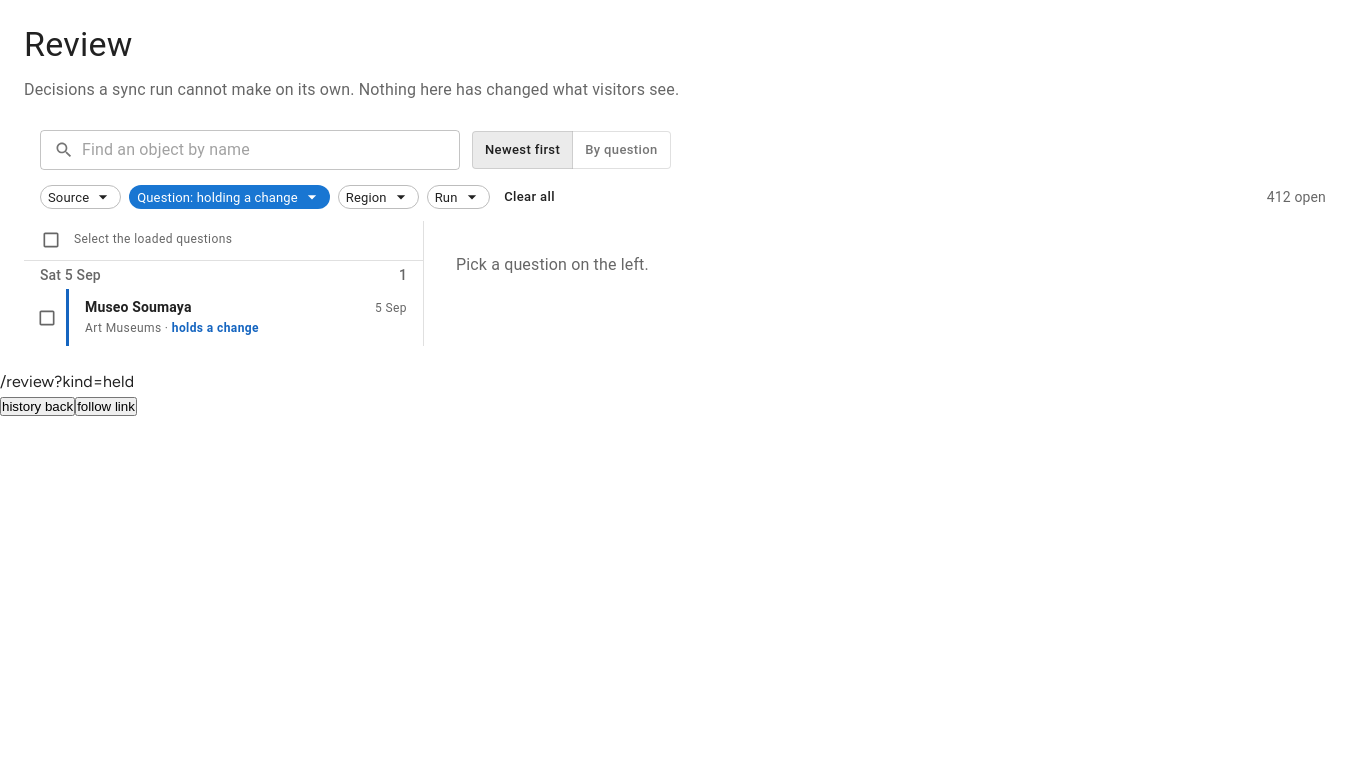
Scenario: answering a selection › says an all-matching answer under a held filter reaches the unread contents those rows hold
Check: the checkbox named "Select Museo Soumaya" is shown, box x1=37 y1=308 x2=57 y2=328
Click the checkbox named "Select the 1 questions loaded".
click(51, 240)  # box x1=41 y1=230 x2=61 y2=250
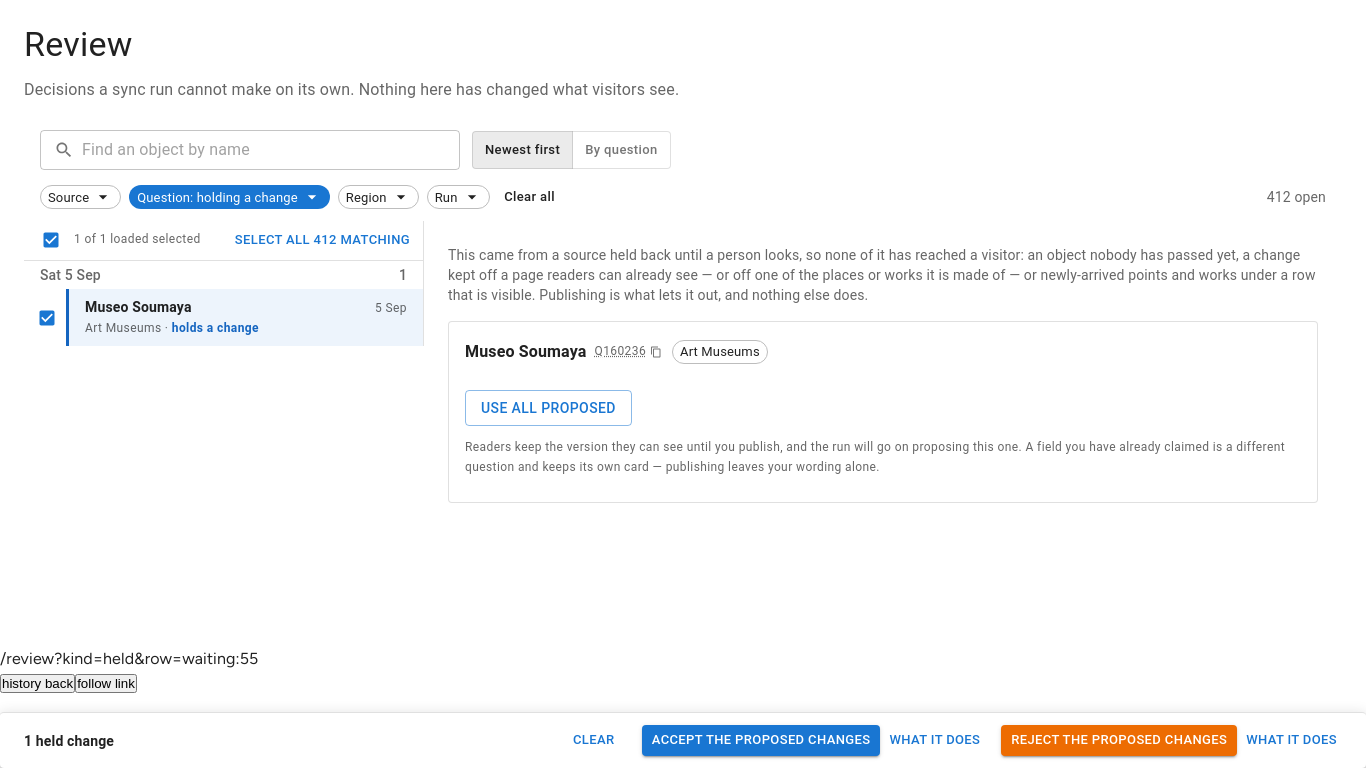
Click the button "Select all 412 matching".
click(322, 240)  # box x1=230 y1=225 x2=415 y2=256
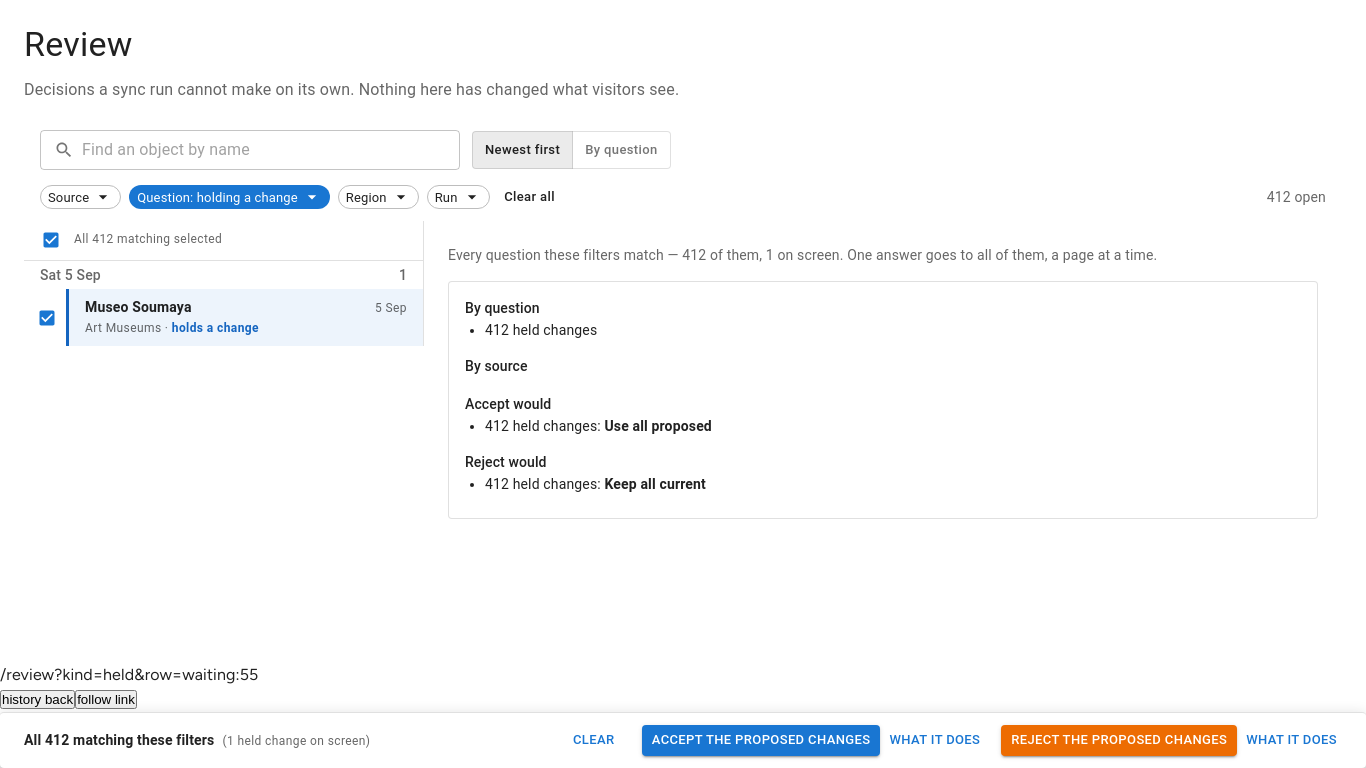
Click the button "Reject the proposed changes".
click(1119, 741)  # box x1=1001 y1=725 x2=1237 y2=756
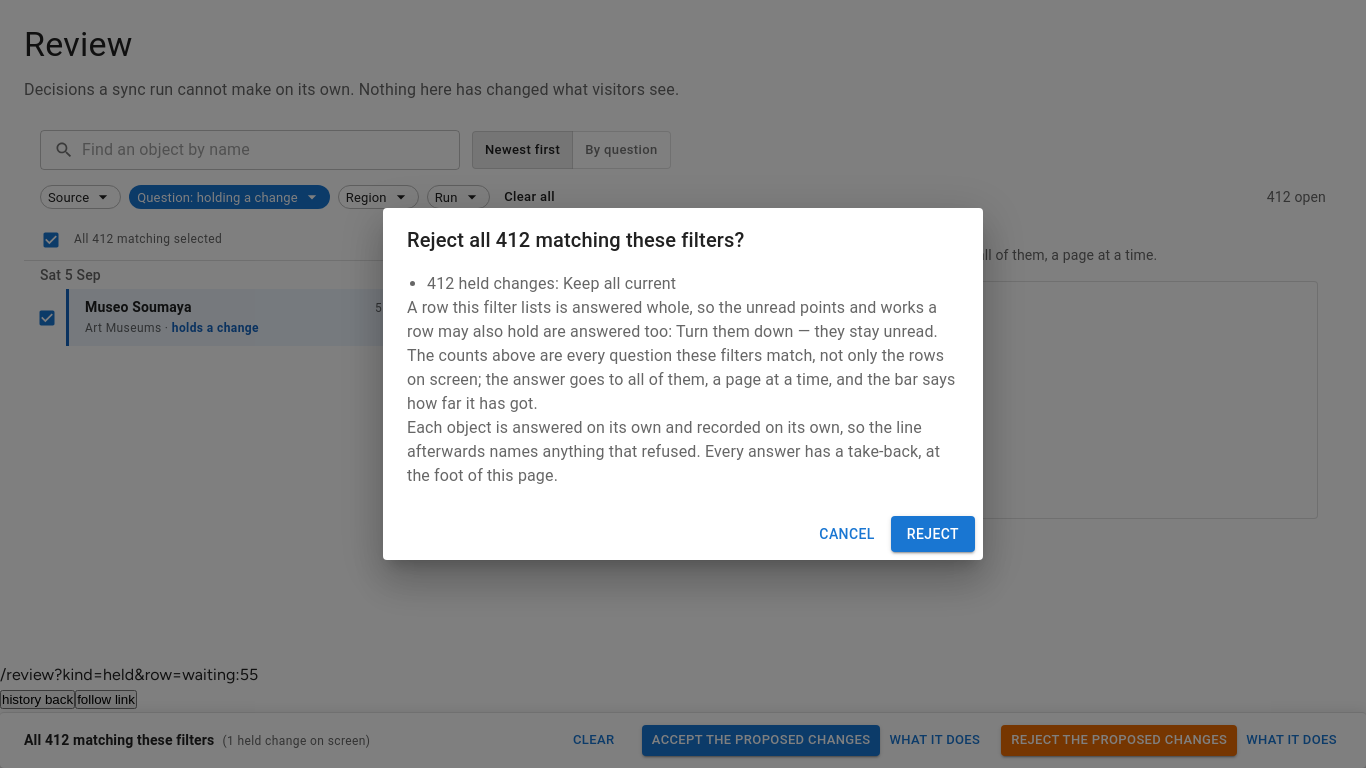
Check: the dialog shows "412 held changes: Keep all current", box x1=427 y1=274 x2=676 y2=293
Check: the dialog shows "the unread points and works a row may also hold are answered too: Turn them down — they stay unread.", box x1=407 y1=298 x2=938 y2=341
Click the button "Cancel".
click(847, 534)  # box x1=811 y1=516 x2=883 y2=552
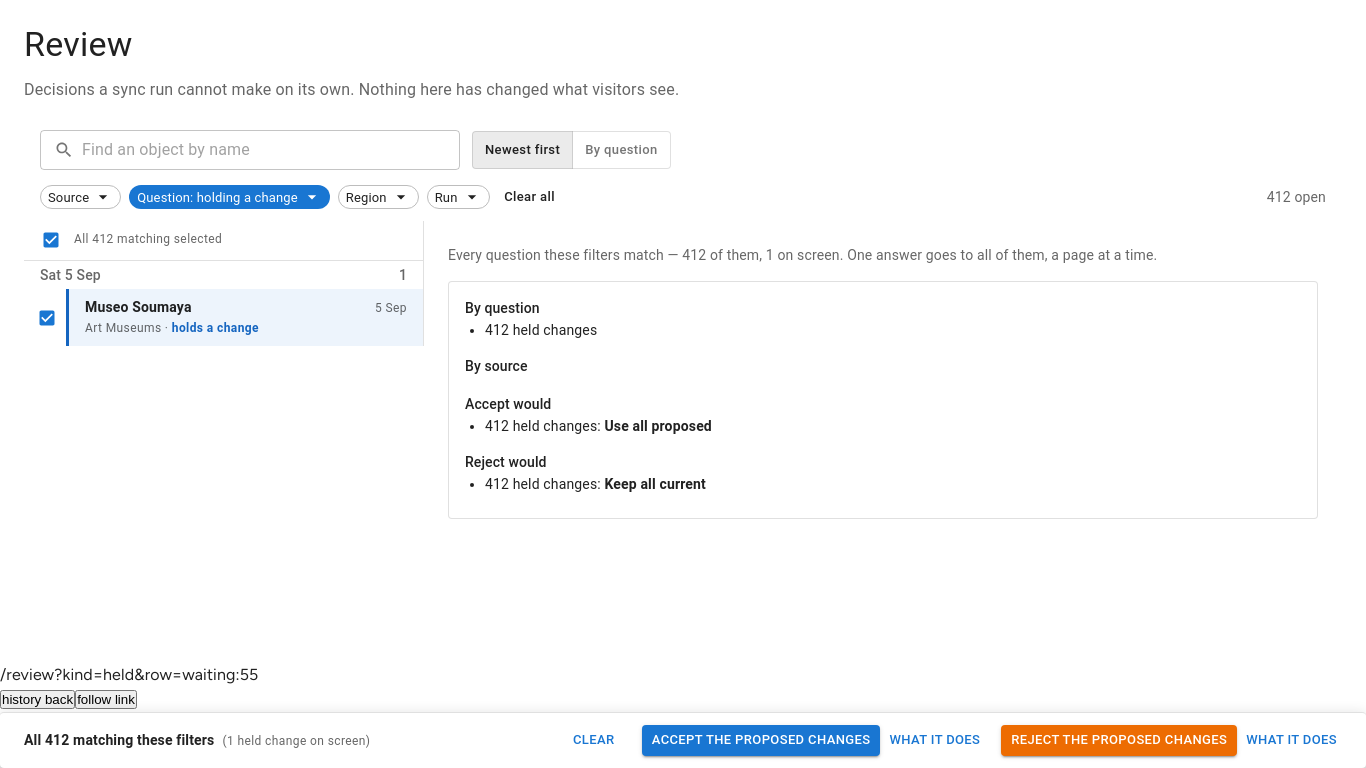
Check: the dialog is gone
